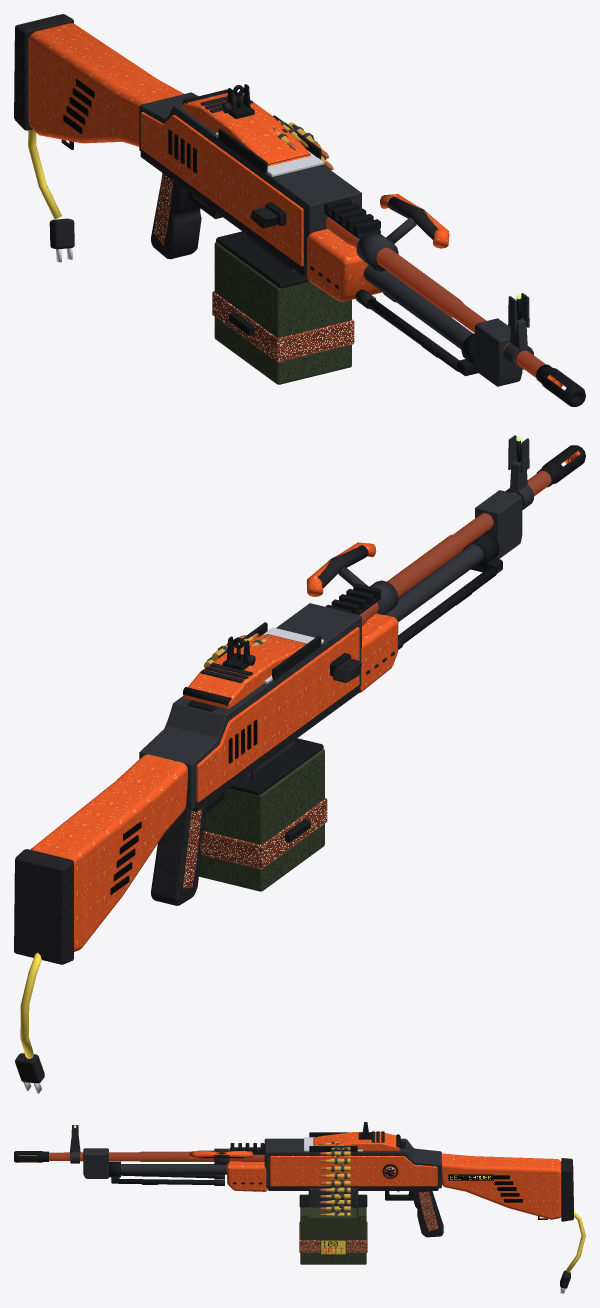
Rendered from w_lmg.glb.
The picture shows the model from 3 angles, top to bottom: view 1: azimuth 30°, elevation 25°; view 2: azimuth 150°, elevation 25°; view 3: azimuth 270°, elevation 25°; orthographic projection. The views are drawn at different scales.
Visible parts, largest first — view 1: lmg_body_wzA__lmg_orange__pfd5c21, lmg_body_wzB__lmg_steel__m2b2e34, mag_wzB__lmg_box__p333e29, lmg_body_wzA__lmg_over__p1e1e22, lmg_body_wzB__lmg_dark__p141518, cover_wzA__lmg_orange__pfd5c21, lmg_body_wzN__lmg_heat__n6c1a03, mag_wzB__lmg_grit__p9a553d, mag_wzB__lmg_dark__p141518, lmg_body_wzN__lmg_black__p050505, lmg_body_wzB__lmg_over__p1e1e22, cover_wzB__lmg_dark__p141518 (+4 smaller); view 2: lmg_body_wzA__lmg_orange__pfd5c21, lmg_body_wzB__lmg_steel__m2b2e34, lmg_body_wzA__lmg_over__p1e1e22, mag_wzB__lmg_box__p333e29, lmg_body_wzB__lmg_dark__p141518, cover_wzA__lmg_orange__pfd5c21, lmg_body_wzN__lmg_heat__n6c1a03, mag_wzB__lmg_grit__p9a553d, mag_wzB__lmg_dark__p141518, lmg_body_wzN__lmg_black__p050505, cover_wzB__lmg_dark__p141518, lmg_body_wzN__lmg_cord__pffe14d (+2 smaller); view 3: lmg_body_wzA__lmg_orange__pfd5c21, lmg_body_wzB__lmg_steel__m2b2e34, mag_wzB__lmg_box__p333e29, lmg_body_wzA__lmg_over__p1e1e22, lmg_body_wzB__lmg_dark__p141518, lmg_body_wzN__lmg_heat__n6c1a03, cover_wzA__lmg_orange__pfd5c21, mag_wzB__lmg_grit__p9a553d, lmg_body_wzA__lmg_grit__p9a553d, lmg_body_wzB__lmg_orange__pfd5c21, mag_wzN__lmg_tag__pd3a73b, lmg_body_wzN__lmg_black__p050505 (+4 smaller).
Boxes of the visible parts, <box> form: lmg_body_wzA__lmg_orange__pfd5c21: <box>28,23,382,301</box>; lmg_body_wzB__lmg_steel__m2b2e34: <box>139,92,533,386</box>; mag_wzB__lmg_box__p333e29: <box>214,242,351,384</box>; lmg_body_wzA__lmg_over__p1e1e22: <box>14,14,338,289</box>; lmg_body_wzB__lmg_dark__p141518: <box>61,115,585,406</box>; cover_wzA__lmg_orange__pfd5c21: <box>183,93,310,166</box>; lmg_body_wzN__lmg_heat__n6c1a03: <box>325,216,545,377</box>; mag_wzB__lmg_grit__p9a553d: <box>212,291,354,362</box>; mag_wzB__lmg_dark__p141518: <box>216,231,309,335</box>; lmg_body_wzN__lmg_black__p050505: <box>63,79,196,173</box>; lmg_body_wzB__lmg_over__p1e1e22: <box>355,196,438,308</box>; cover_wzB__lmg_dark__p141518: <box>182,84,254,118</box>; lmg_body_wzA__lmg_orange__pfd5c21: <box>30,613,398,951</box>; lmg_body_wzB__lmg_steel__m2b2e34: <box>139,435,533,809</box>; lmg_body_wzA__lmg_over__p1e1e22: <box>14,651,394,1083</box>; mag_wzB__lmg_box__p333e29: <box>199,749,324,891</box>; lmg_body_wzB__lmg_dark__p141518: <box>187,440,585,812</box>; cover_wzA__lmg_orange__pfd5c21: <box>183,634,306,708</box>; lmg_body_wzN__lmg_heat__n6c1a03: <box>359,470,551,625</box>; mag_wzB__lmg_grit__p9a553d: <box>200,798,327,869</box>; mag_wzB__lmg_dark__p141518: <box>229,738,323,842</box>; lmg_body_wzN__lmg_black__p050505: <box>110,719,257,894</box>; cover_wzB__lmg_dark__p141518: <box>183,636,249,705</box>; lmg_body_wzN__lmg_cord__pffe14d: <box>20,953,41,1058</box>; lmg_body_wzA__lmg_orange__pfd5c21: <box>226,1153,561,1219</box>; lmg_body_wzB__lmg_steel__m2b2e34: <box>70,1125,441,1206</box>; mag_wzB__lmg_box__p333e29: <box>300,1207,366,1264</box>; lmg_body_wzA__lmg_over__p1e1e22: <box>232,1158,573,1288</box>; lmg_body_wzB__lmg_dark__p141518: <box>14,1132,547,1219</box>; lmg_body_wzN__lmg_heat__n6c1a03: <box>49,1151,264,1161</box>; cover_wzA__lmg_orange__pfd5c21: <box>313,1132,400,1150</box>; mag_wzB__lmg_grit__p9a553d: <box>299,1221,367,1252</box>; lmg_body_wzA__lmg_grit__p9a553d: <box>418,1191,438,1231</box>; lmg_body_wzB__lmg_orange__pfd5c21: <box>19,1151,253,1162</box>; mag_wzN__lmg_tag__pd3a73b: <box>320,1240,346,1254</box>; lmg_body_wzN__lmg_black__p050505: <box>493,1175,522,1202</box>.
Size of the model in its own units: 0.1578 by 0.4512 by 1.42.
18 materials, 7 textured.
